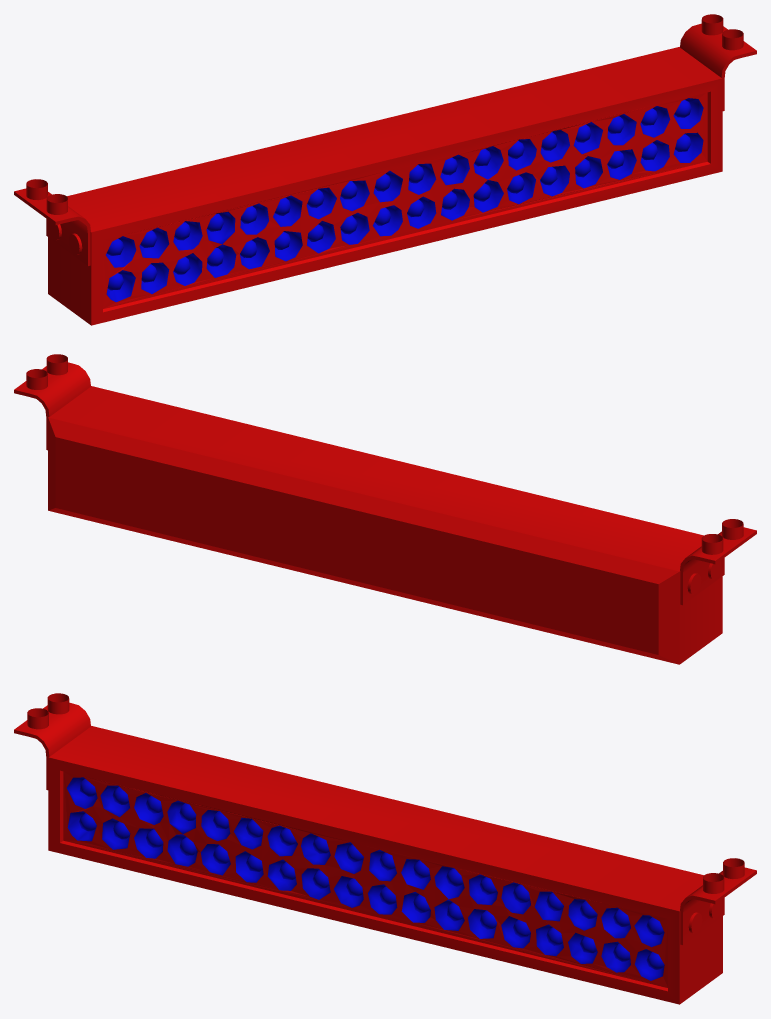
The model's file is LightBar.fbx.
3 renders of one model, top to bottom at view 1: azimuth 30°, elevation 25°; view 2: azimuth 150°, elevation 25°; view 3: azimuth 330°, elevation 25°, orthographic.
Parts seen in each view (by area): view 1: LightBar; view 2: LightBar; view 3: LightBar.
Boxes of the visible parts, x1,y1,x2,y2 form: LightBar: [14, 14, 756, 325]; LightBar: [14, 354, 756, 664]; LightBar: [14, 693, 756, 1004].
Size of the model in its own units: 1.17 by 0.1966 by 0.1436.
